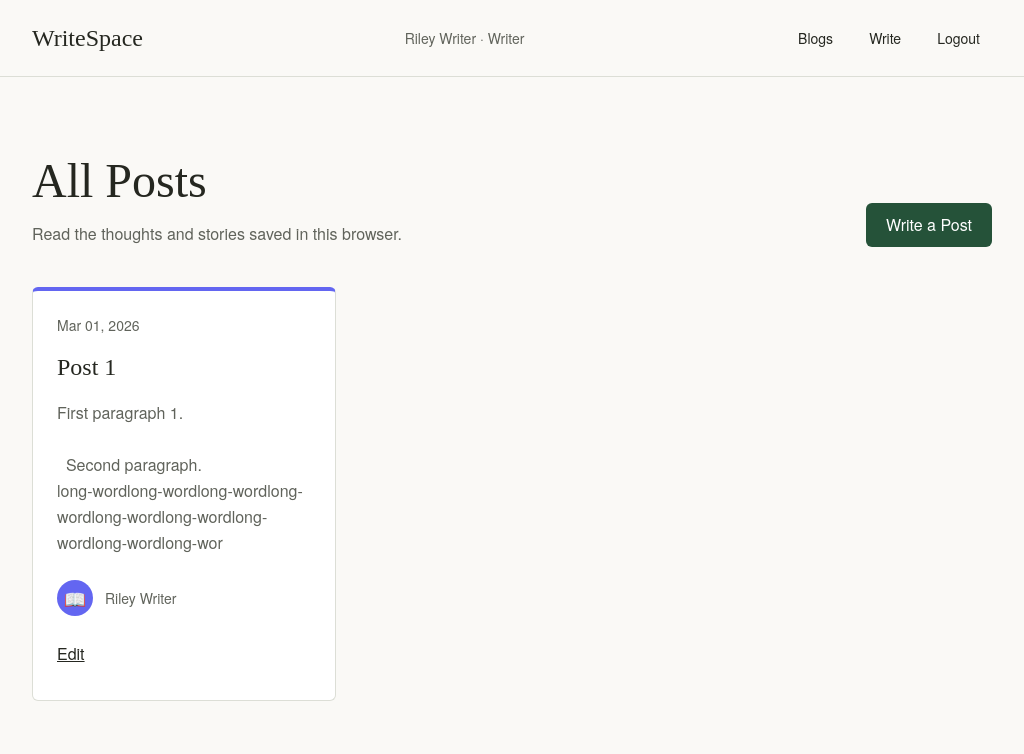
Test: ReadBlog and reading routes › rechecks current storage at route activation rather than trusting the older shell session
What coordinates should you click on to do the following:
click the link "Post 1"
I would click on:
 (87, 367)
Its box is [57,354,116,380].
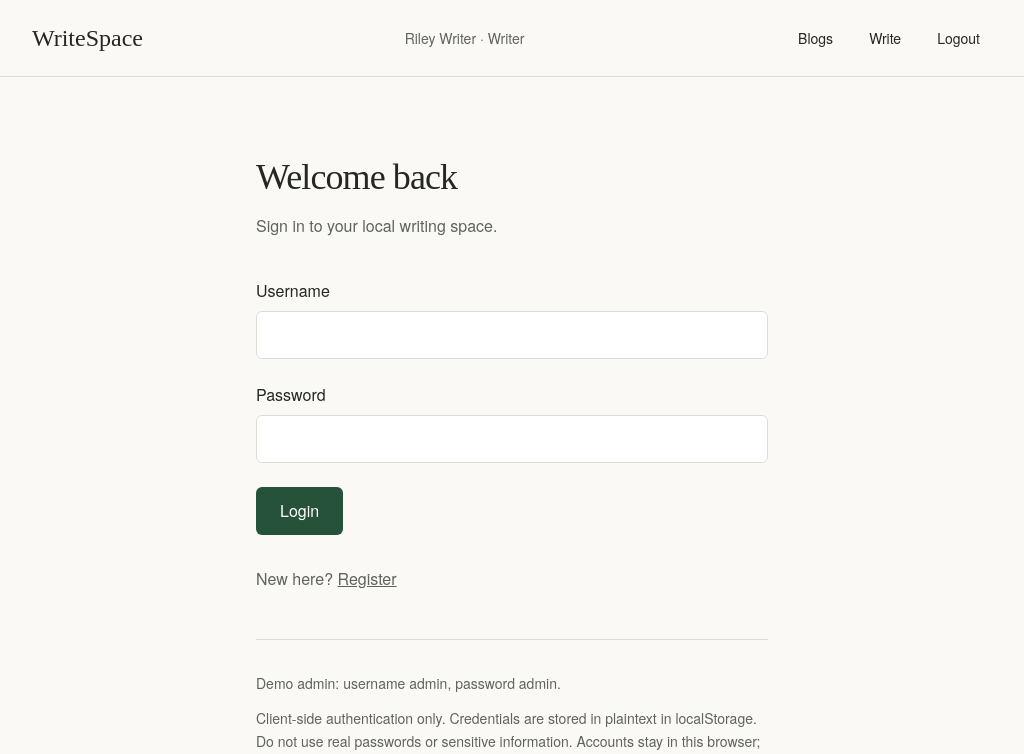
Expected: the button "Login" is shown, [256,487,343,535]
Expected: the link "Edit" is gone
Expected: the link "Post 1" is gone
